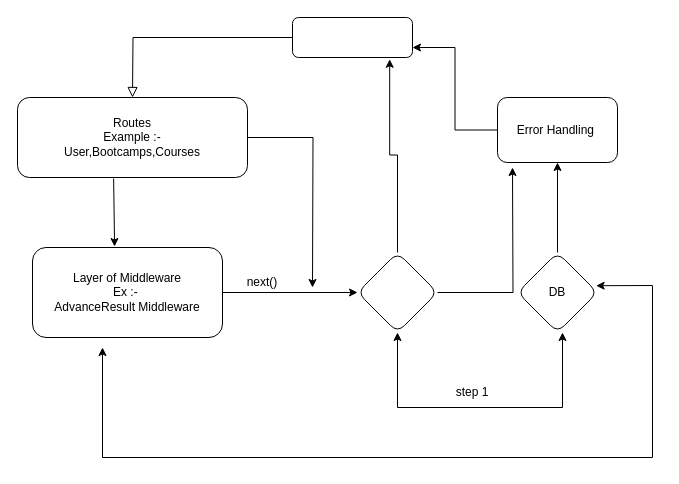
The diagram is 679 pixels wide and 484 high, and some of its shapes have lost their labels. The box of each missing label's shape, as (x1, y1, x2, y2) in pixels:
Client: (292, 16, 412, 58)
Controllers: (356, 252, 438, 332)
